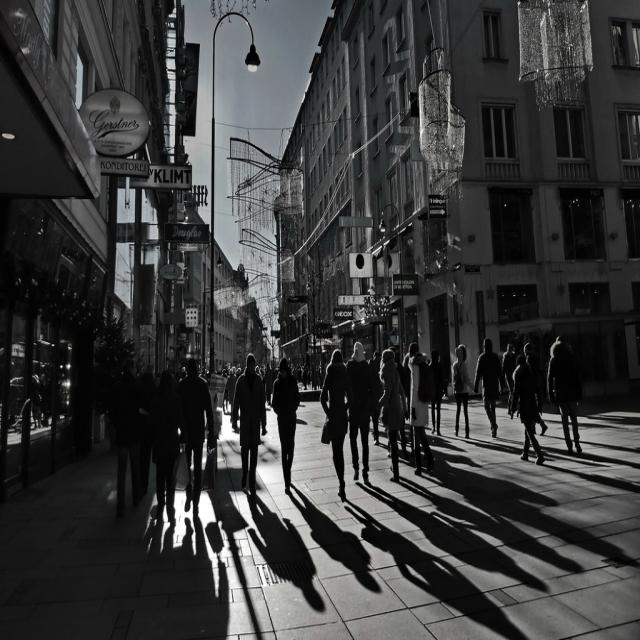body: (376, 478, 582, 640), (242, 489, 324, 625), (174, 354, 217, 513), (326, 484, 378, 600), (111, 355, 147, 518), (318, 345, 354, 504), (230, 352, 268, 495), (148, 366, 182, 519), (269, 354, 302, 496), (546, 334, 583, 458), (509, 349, 546, 467), (375, 346, 404, 486), (128, 353, 158, 485), (407, 340, 435, 479), (345, 341, 371, 484), (8, 367, 61, 433), (473, 336, 505, 439), (522, 341, 549, 439), (451, 343, 477, 440), (407, 342, 426, 458), (427, 348, 444, 436), (366, 354, 382, 445), (499, 339, 516, 408), (226, 367, 238, 411), (262, 359, 273, 406), (306, 360, 321, 391), (233, 368, 243, 412), (291, 362, 303, 383), (301, 362, 307, 391), (255, 365, 263, 379), (220, 367, 228, 379), (180, 366, 187, 378), (232, 365, 238, 378), (238, 361, 245, 372), (275, 365, 278, 379)
